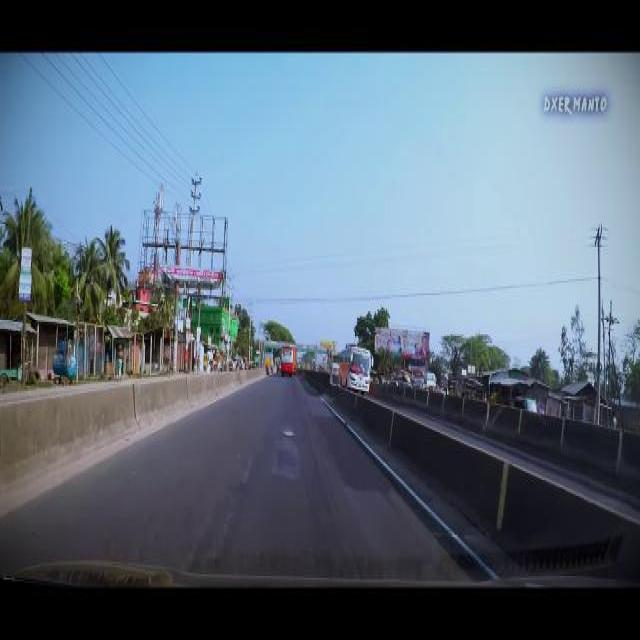Truck: (336, 345, 369, 391), (280, 345, 292, 373)
